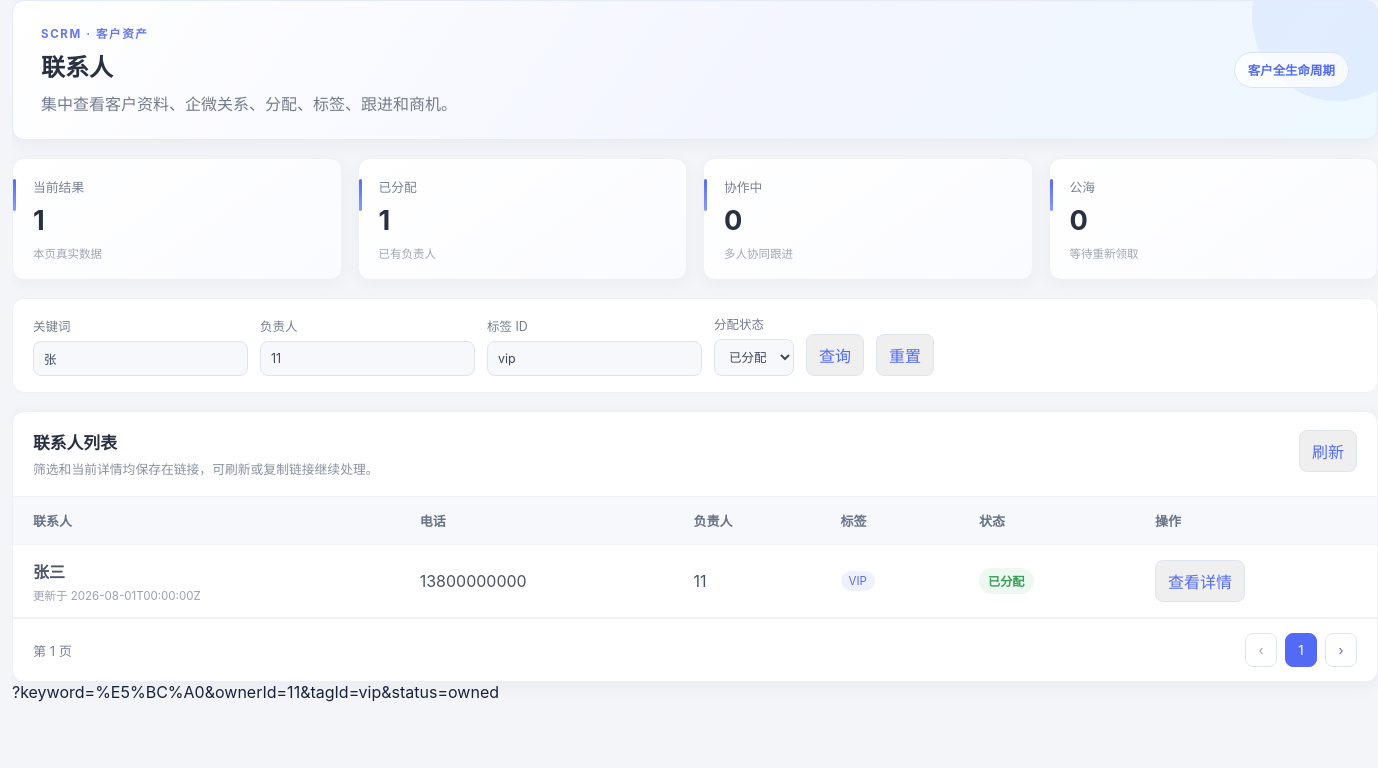
ContactPage › restores combined filters from URL and keeps pagination in URL
Expected: the text "张三" is shown, [33, 562, 65, 582]
Step 1. Click the button named "下一页" → (1341, 650), box [1325, 633, 1357, 667]
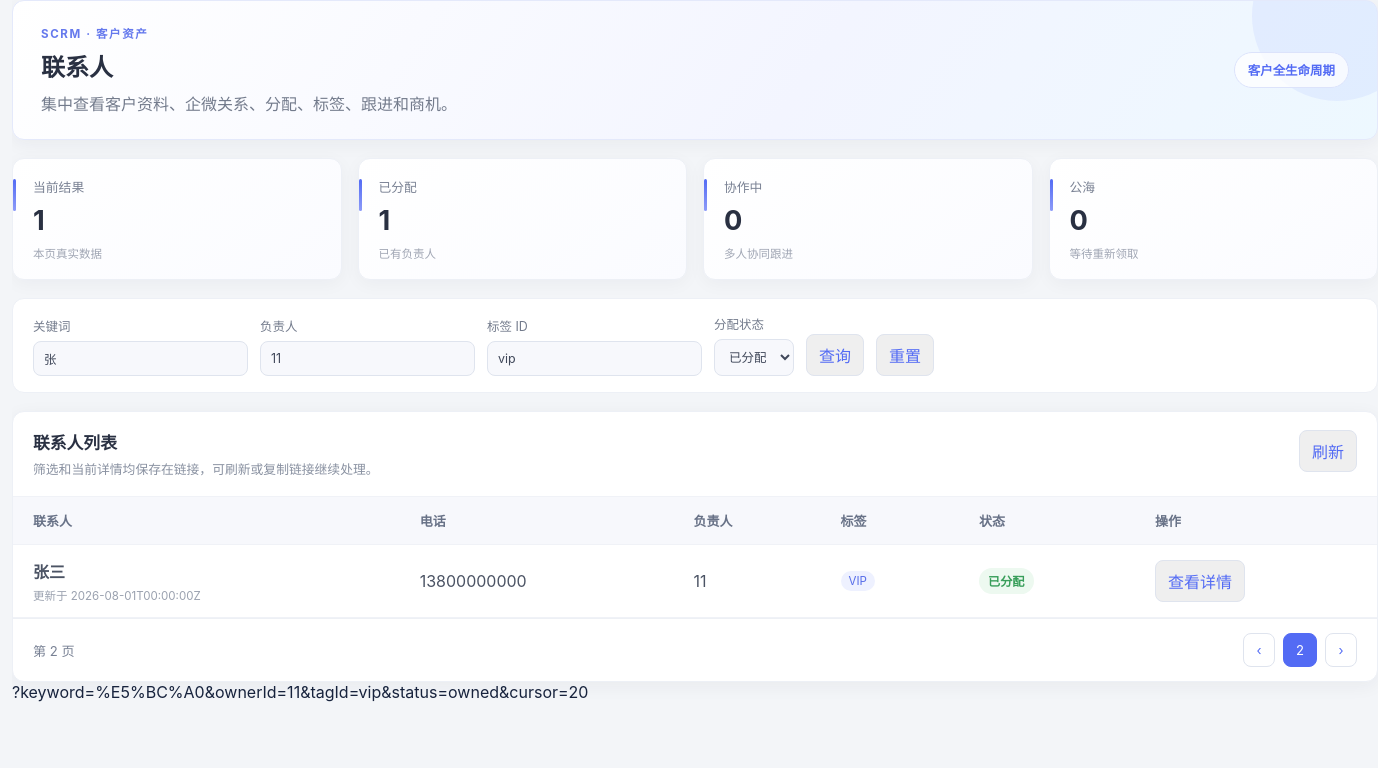
Now the text with test id "location" shows "cursor=20", box [12, 682, 588, 702]
